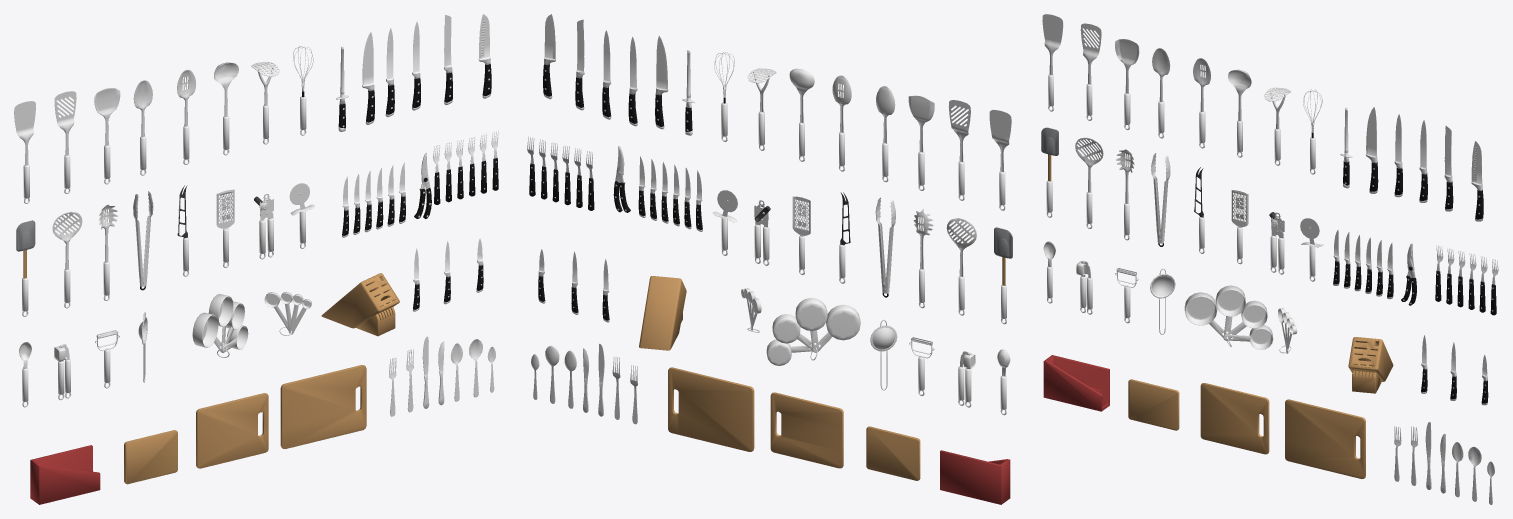
File: Kitchen Cutlery.fbx
3 views of the same model, side by side, from view 1: azimuth 30°, elevation 25°; view 2: azimuth 150°, elevation 25°; view 3: azimuth 330°, elevation 25° (orthographic). The views are drawn at different scales.
Visible parts, largest first — view 1: Cutting Board 1, Cutting Board 2, Cutting Board Storage, Knife Block, Cutting Board 3, MeasuringCups, Solid Turner, Measuring Spoons, Slotted Turner, Asian Turner, Draining Spoon, Spatula (+17 smaller); view 2: Cutting Board 1, Cutting Board 2, MeasuringCups, Cutting Board Storage, Knife Block, Cutting Board 3, Solid Turner, Slotted Turner, Draining Spoon, Asian Turner, Cheese Grater, Tongs (+17 smaller); view 3: Cutting Board 1, Cutting Board 2, MeasuringCups, Cutting Board Storage, Cutting Board 3, Knife Block, Solid Turner, Slotted Turner, Asian Turner, Draining Spoon, Cheese Grater, Spatula (+15 smaller).
Part boxes in pixels (x1,y1,x2,y2): Cutting Board 1: (280,365,366,448); Cutting Board 2: (196,393,268,468); Cutting Board Storage: (30,445,100,504); Knife Block: (321,273,399,336); Cutting Board 3: (124,430,177,484); MeasuringCups: (192,294,248,357); Solid Turner: (14,101,35,203); Measuring Spoons: (264,291,311,335); Slotted Turner: (54,91,76,193); Asian Turner: (94,88,120,184); Draining Spoon: (52,211,82,308); Spatula: (16,220,35,316); Cutting Board 1: (668,367,754,451); Cutting Board 2: (770,392,843,468); MeasuringCups: (766,298,860,365); Cutting Board Storage: (940,450,1010,504); Knife Block: (639,276,686,350); Cutting Board 3: (866,426,920,480); Solid Turner: (989,109,1011,210); Slotted Turner: (948,100,970,200); Draining Spoon: (946,218,976,315); Asian Turner: (908,95,934,190); Cheese Grater: (792,196,810,275); Tongs: (875,197,895,297); Cutting Board 1: (1285,399,1365,478); Cutting Board 2: (1200,383,1269,454); MeasuringCups: (1184,285,1273,349); Cutting Board Storage: (1043,355,1109,411); Cutting Board 3: (1128,379,1179,430); Knife Block: (1348,337,1393,393); Solid Turner: (1042,14,1063,111); Slotted Turner: (1080,23,1101,120); Asian Turner: (1115,39,1139,130); Draining Spoon: (1075,137,1103,228); Cheese Grater: (1231,190,1248,264); Spatula: (1041,127,1058,217).
Bounding box in the file's own units: 189 × 151 × 28.5.
